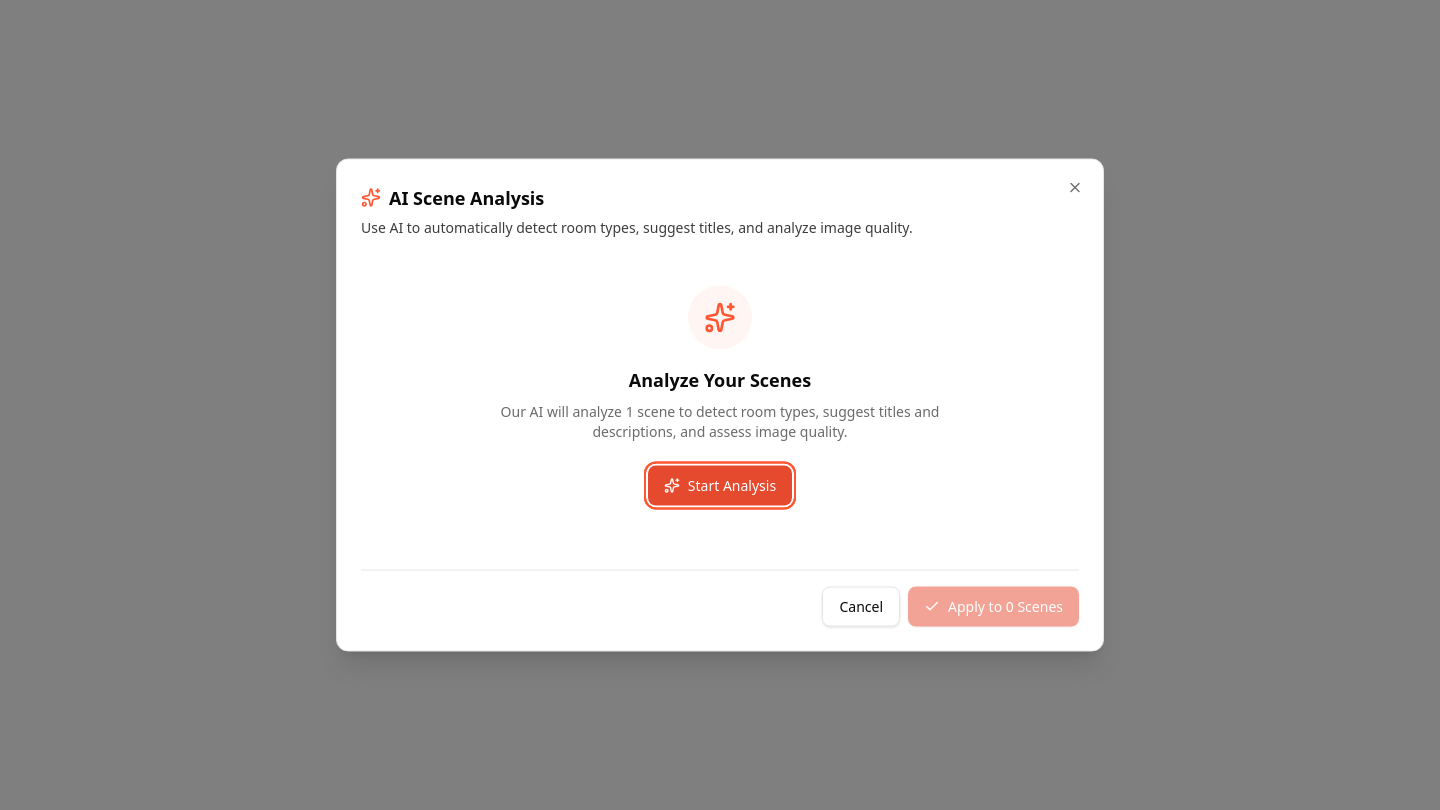
AI scene analysis behavior › toggles result selection from the visible checkbox control
The width and height of the screenshot is (1440, 810).
Click the button "Start Analysis" at (720, 486), box [648,466,792,506]
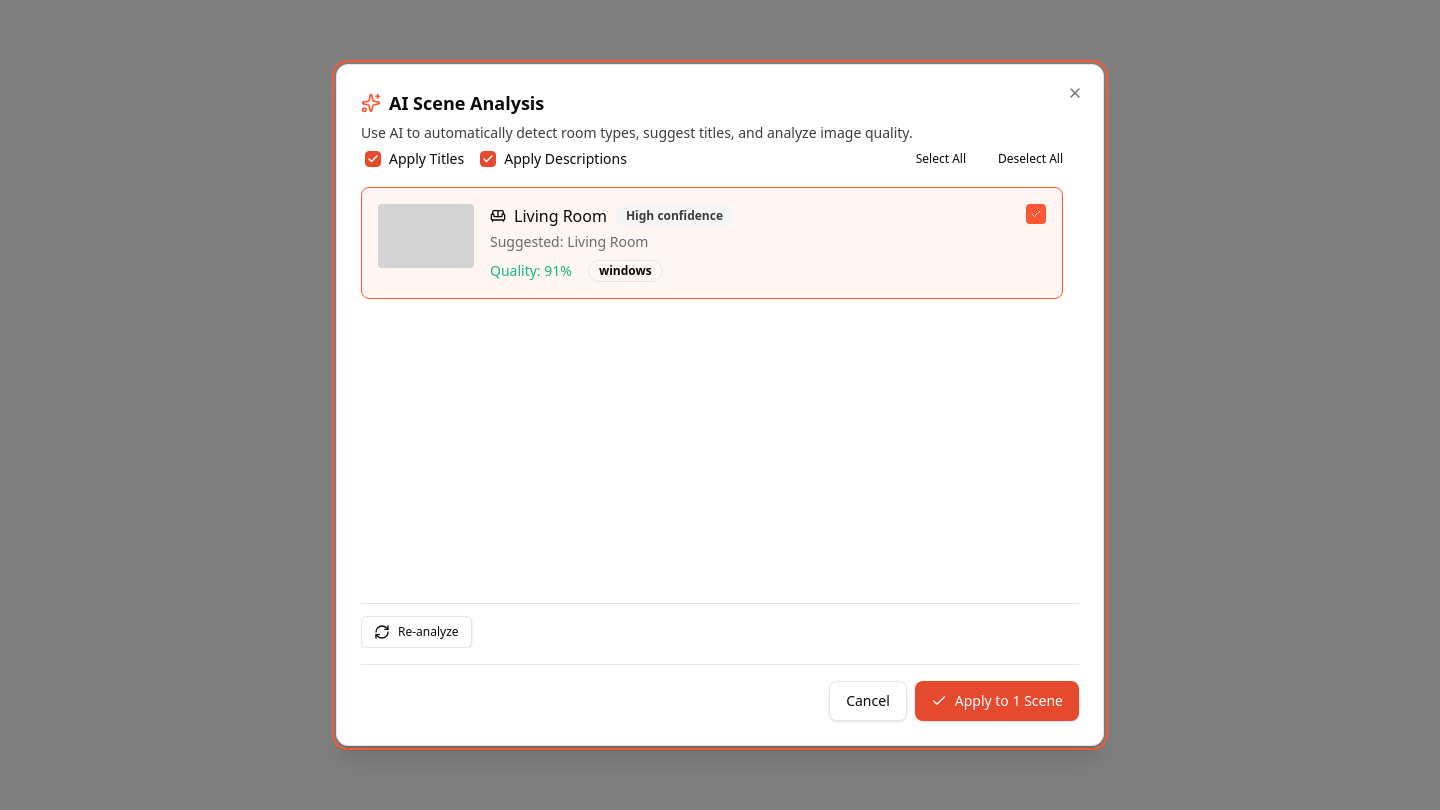
Click the checkbox named "select living room" at (1036, 214), box [1026,204,1046,224]
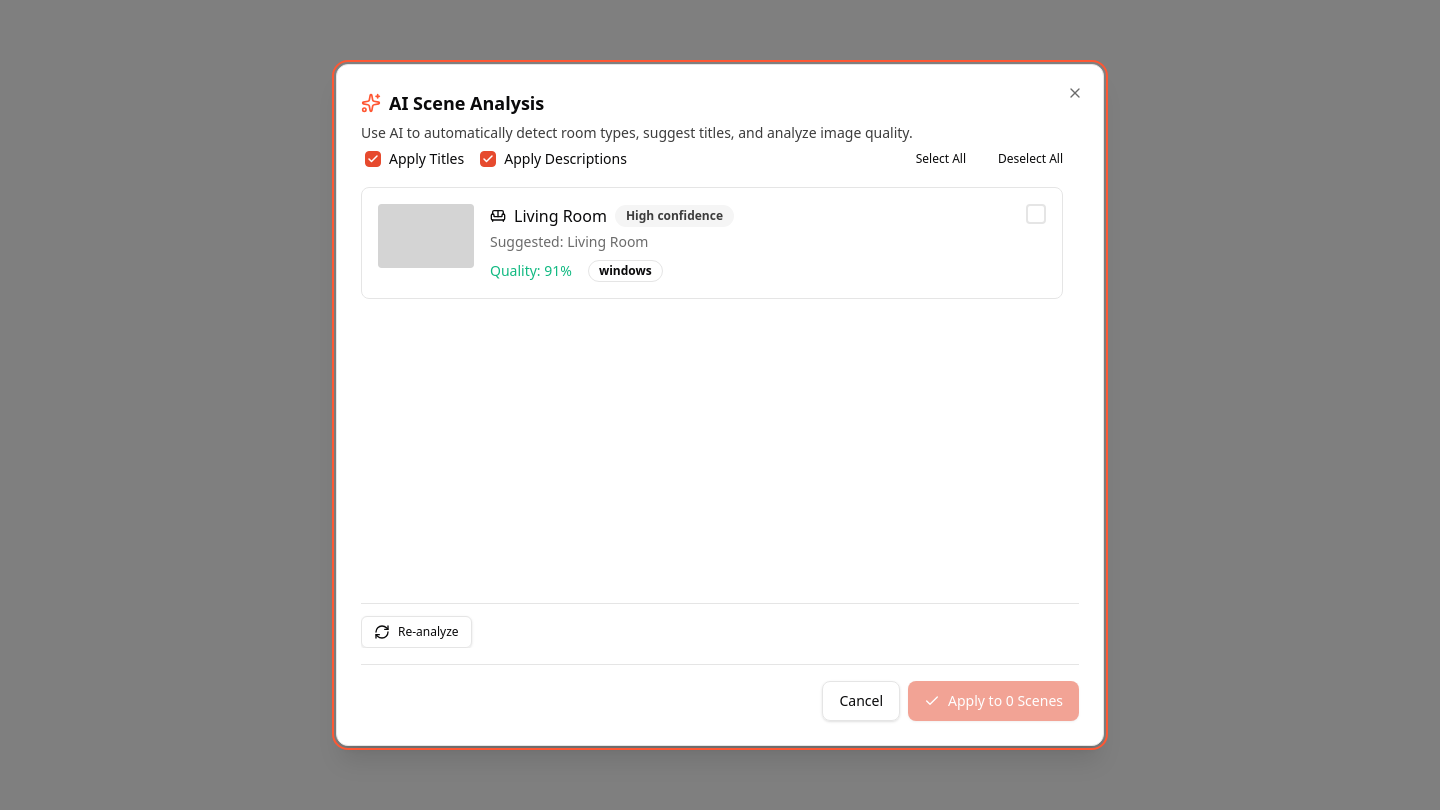
Result: the checkbox named "select living room" is shown at [1026,204,1046,224]
Result: the button "Apply to 0 Scenes" is disabled at [908,681,1079,721]
